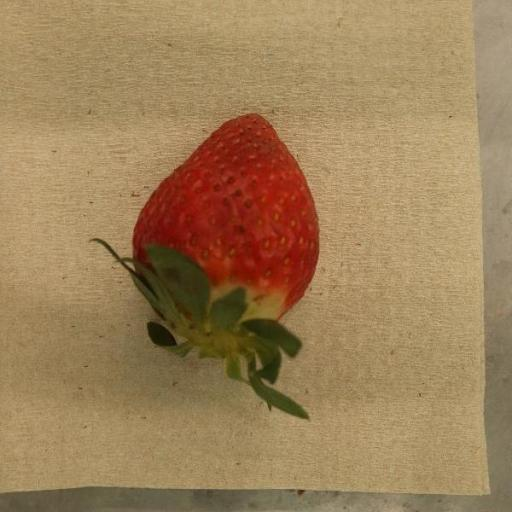Strawberry: (104, 113, 320, 420)
